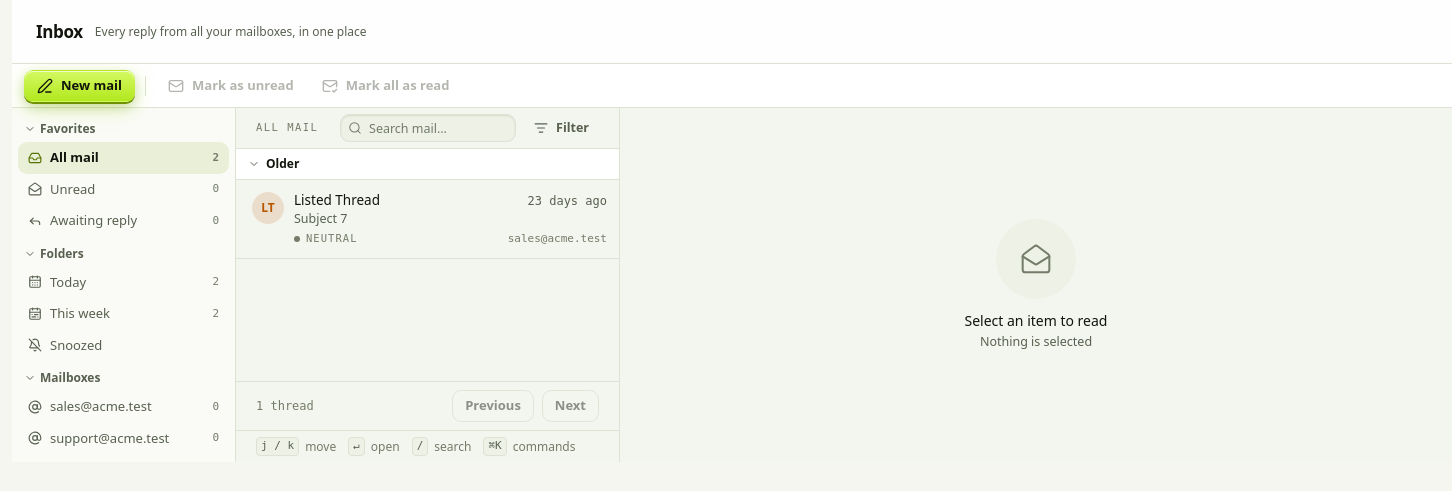
Test case: typing debounces into ONE full-text search request, synced to ?q=, and the list stops fetching
Expected: the text "Listed Thread" is shown, [294,191,380,209]
In the search field labelled "Search mail…": (428, 128) [340,114,516,142], type "mee"
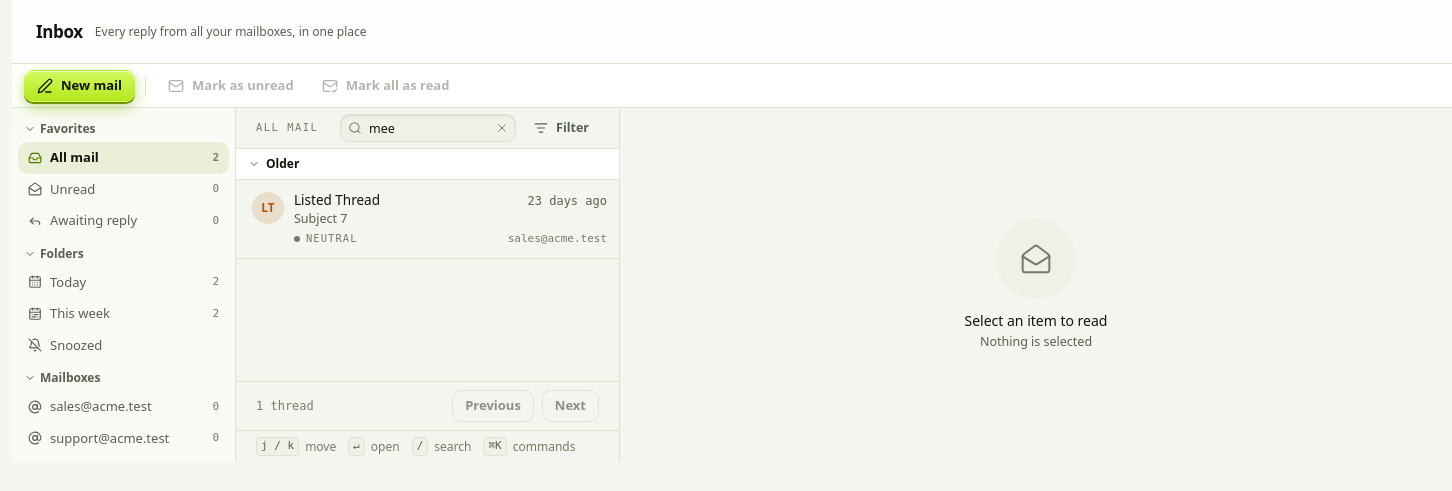
Replace the text in the search field named "Search mail" with "meeting": (428, 128) [340,114,516,142]
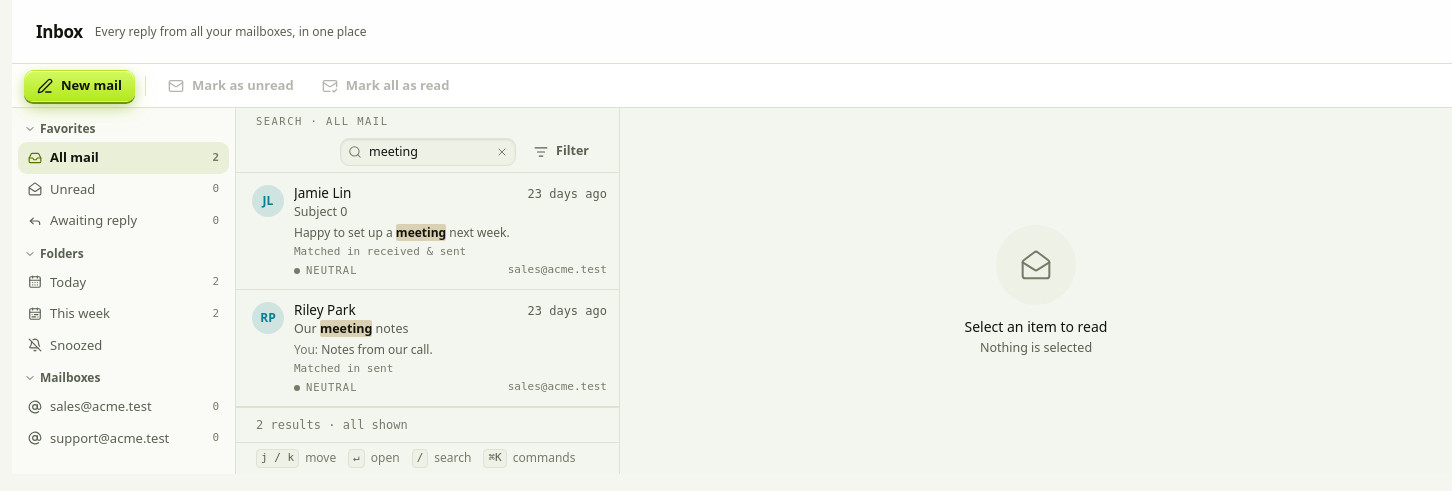
Result: the text "Jamie Lin" is shown at [294,184,351,202]
Result: the text "meeting" next to "Happy to set up a" is shown at [396,224,446,241]
Result: the text "Listed Thread" is gone
